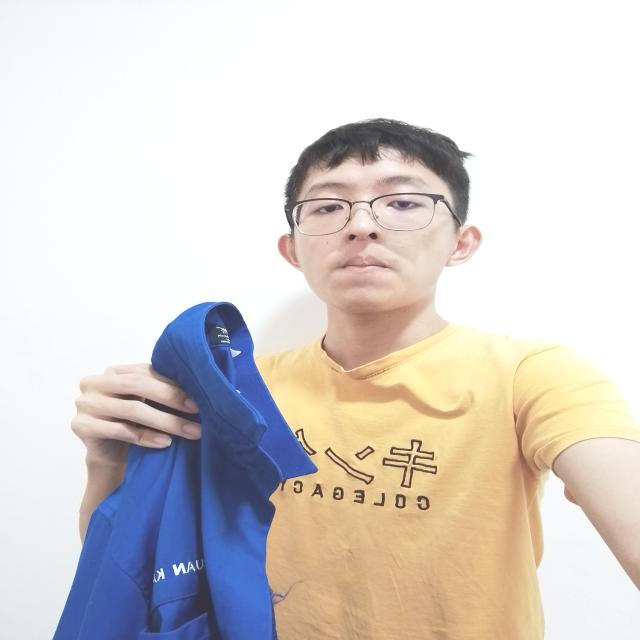person_without_labcoat: (54, 120, 640, 640)
